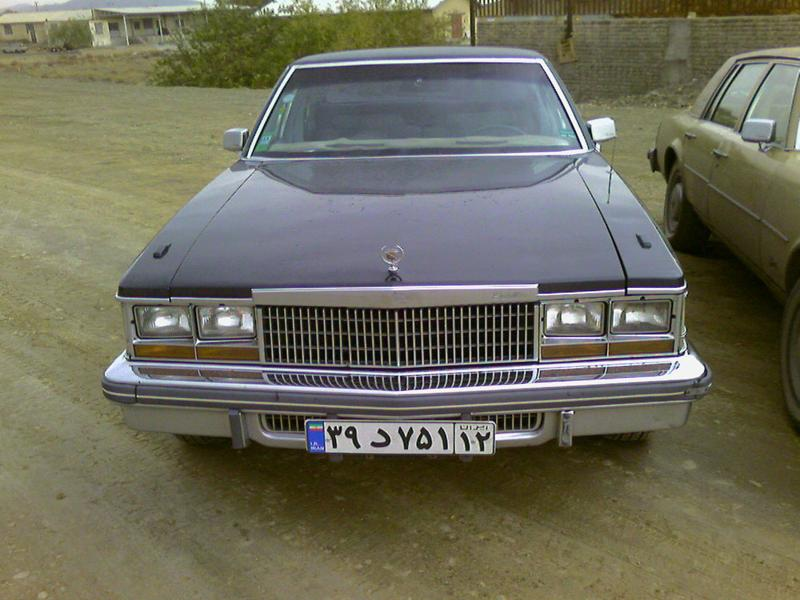Plate: (307, 419, 494, 455)
